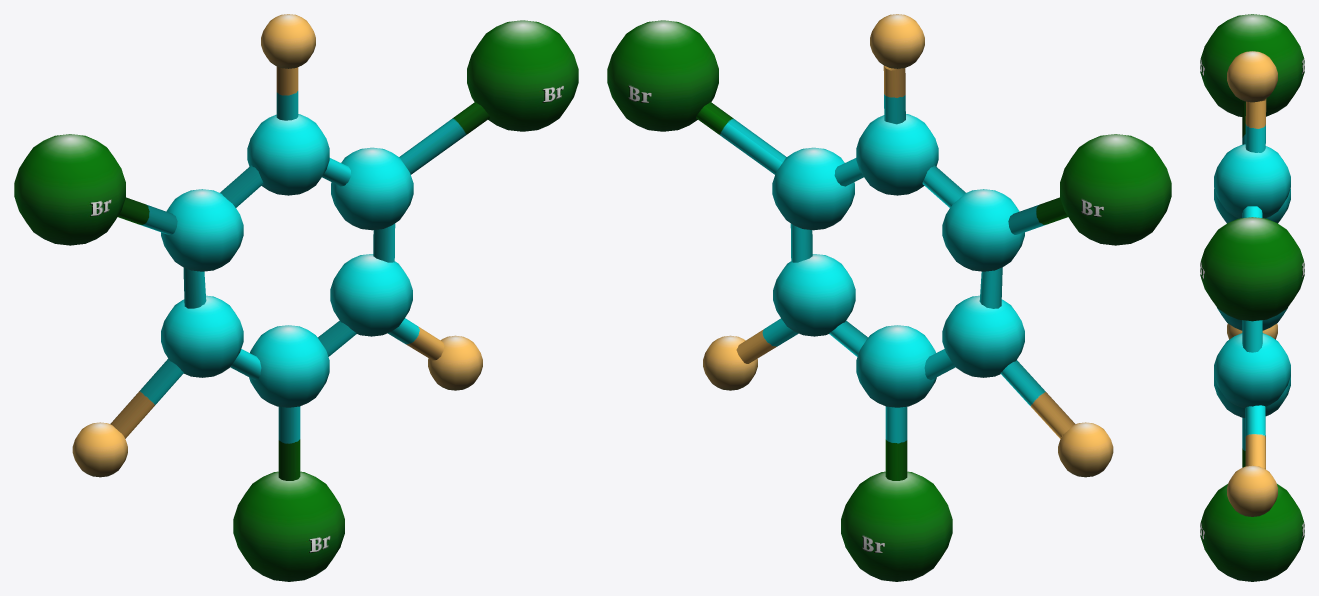
Rendered from Tribromozene.dae.
3 views of the same model, side by side, from view 1: azimuth 30°, elevation 25°; view 2: azimuth 150°, elevation 25°; view 3: azimuth 270°, elevation 25° (orthographic). The views are drawn at different scales.
Visible parts, largest first — view 1: polySurface89; view 2: polySurface89; view 3: polySurface89.
Part boxes in pixels (<box>): polySurface89: <box>14,14,578,581</box>; polySurface89: <box>607,14,1171,581</box>; polySurface89: <box>1200,14,1304,581</box>.
Bounding box in the file's own units: 5 × 4.88 × 0.8785.
1 material, 1 textured.
